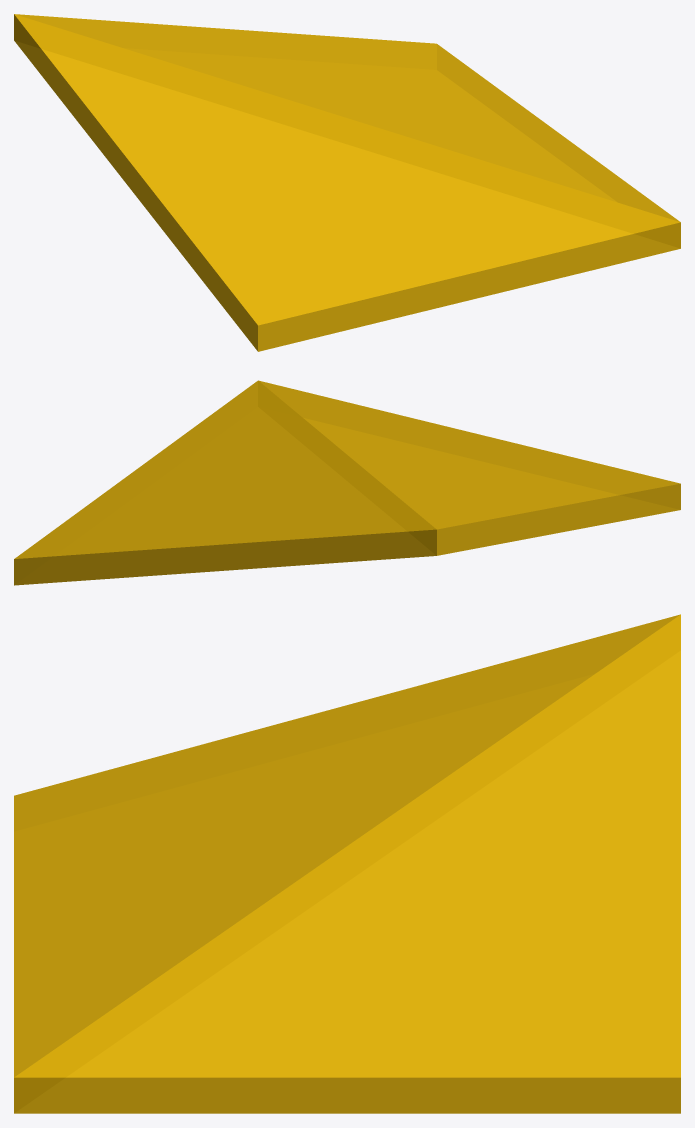
Rendered from SM_Bld_Roof_Corner_Out_01_Collision.fbx.
3 renders of one model, top to bottom at view 1: azimuth 30°, elevation 25°; view 2: azimuth 150°, elevation 25°; view 3: azimuth 270°, elevation 25°, orthographic. The views are drawn at different scales.
Parts seen in each view (by area): view 1: SM_Bld_Roof_Corner_Out_01_Collision; view 2: SM_Bld_Roof_Corner_Out_01_Collision; view 3: SM_Bld_Roof_Corner_Out_01_Collision.
Boxes of the visible parts, x1=… form: SM_Bld_Roof_Corner_Out_01_Collision: x1=14, y1=14, x2=680, y2=351; SM_Bld_Roof_Corner_Out_01_Collision: x1=14, y1=380, x2=680, y2=585; SM_Bld_Roof_Corner_Out_01_Collision: x1=14, y1=614, x2=680, y2=1113.
Bounding box in the file's own units: 250 × 89.9 × 250.
